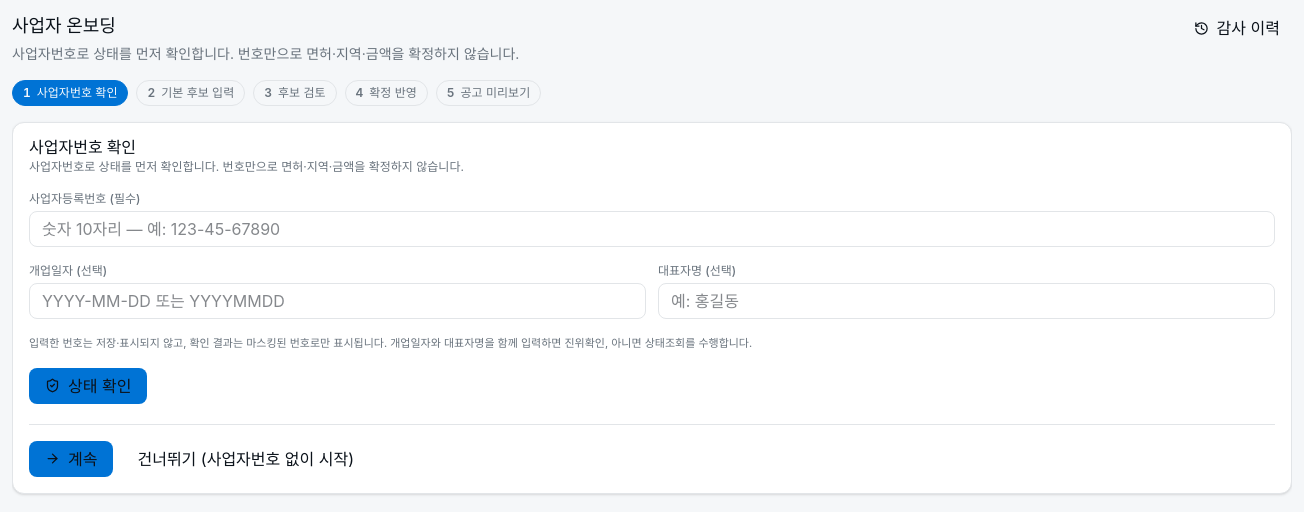
it: OnboardingWizard › 후보가 비어 있으면(profile/strategy 빈 배열) 후보 없음 안내를 표시하고 반영 버튼을 비활성화한다
Click the button "건너뛰기 (사업자번호 없이 시작)" at point(246, 458), box [122,440,370,476]
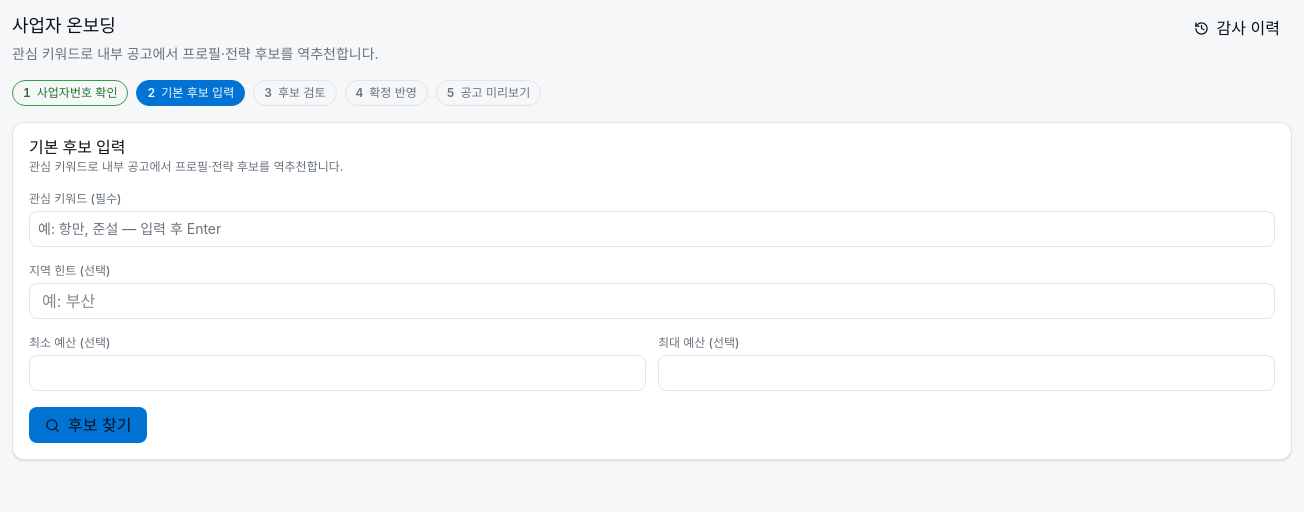
Type "항만" into the field labelled "관심 키워드 (필수)" at point(652, 229), box [38,219,1266,239]
Then press Enter
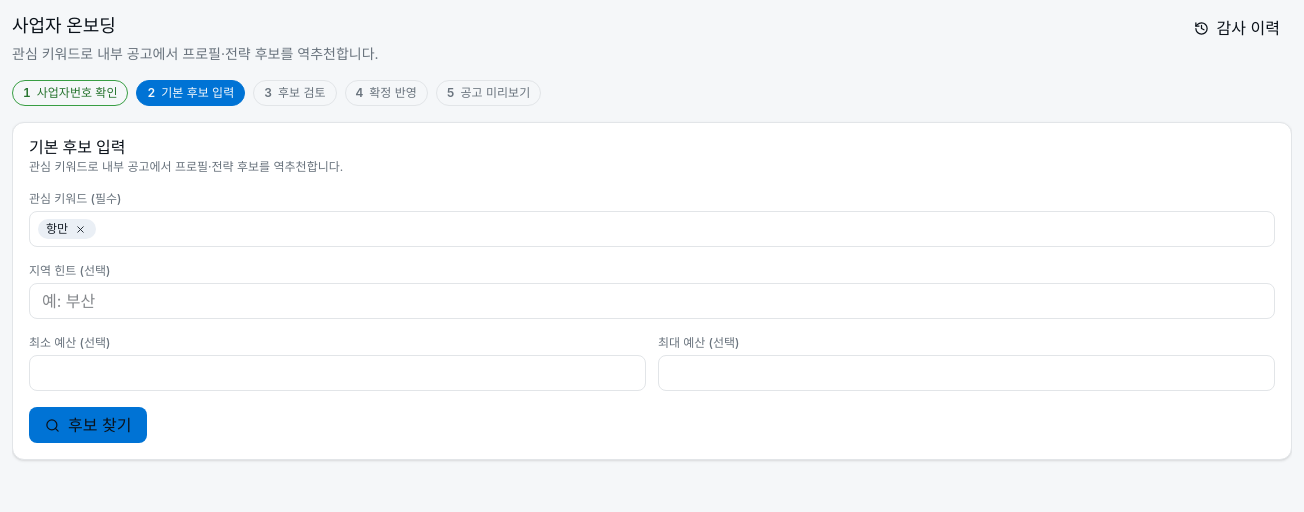
Click the button "후보 찾기" at point(88, 425), box [29,407,147,443]
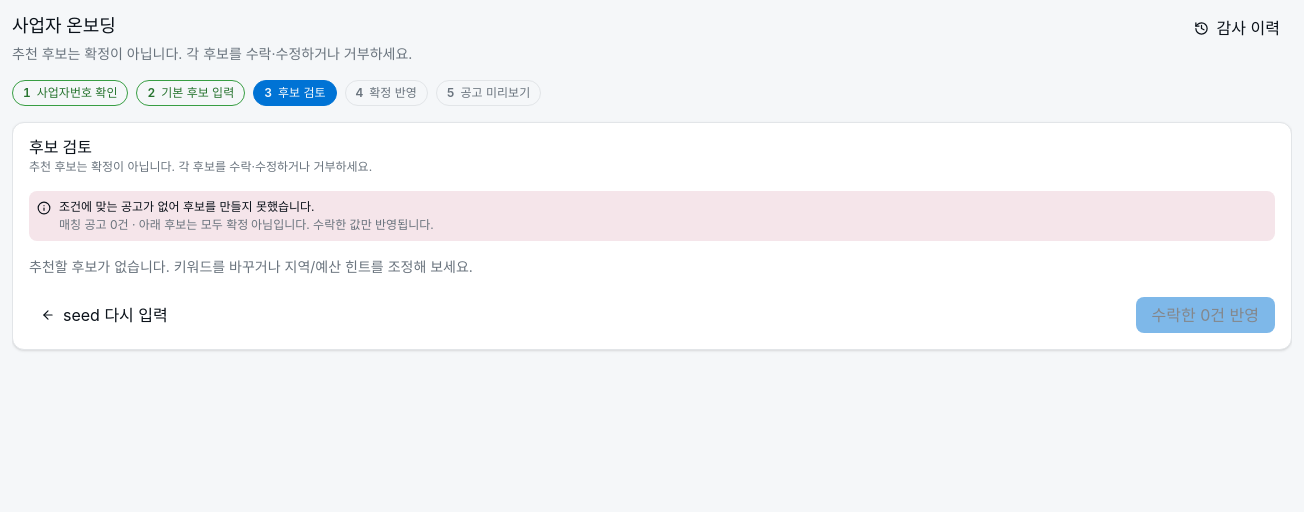
Expected: the text "추천할 후보가 없습니다. 키워드를 바꾸거나 지역/예산 힌트를 조정해 보세요." is shown, [29,258,473,275]
Expected: the text "조건에 맞는 공고가 없어 후보를 만들지 못했습니다." is shown, [59,199,315,214]
Expected: the button "수락한 0건 반영" is disabled, [1136,297,1275,333]
